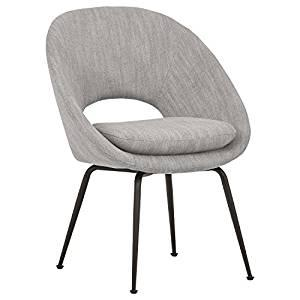chair: (37, 4, 278, 296)
